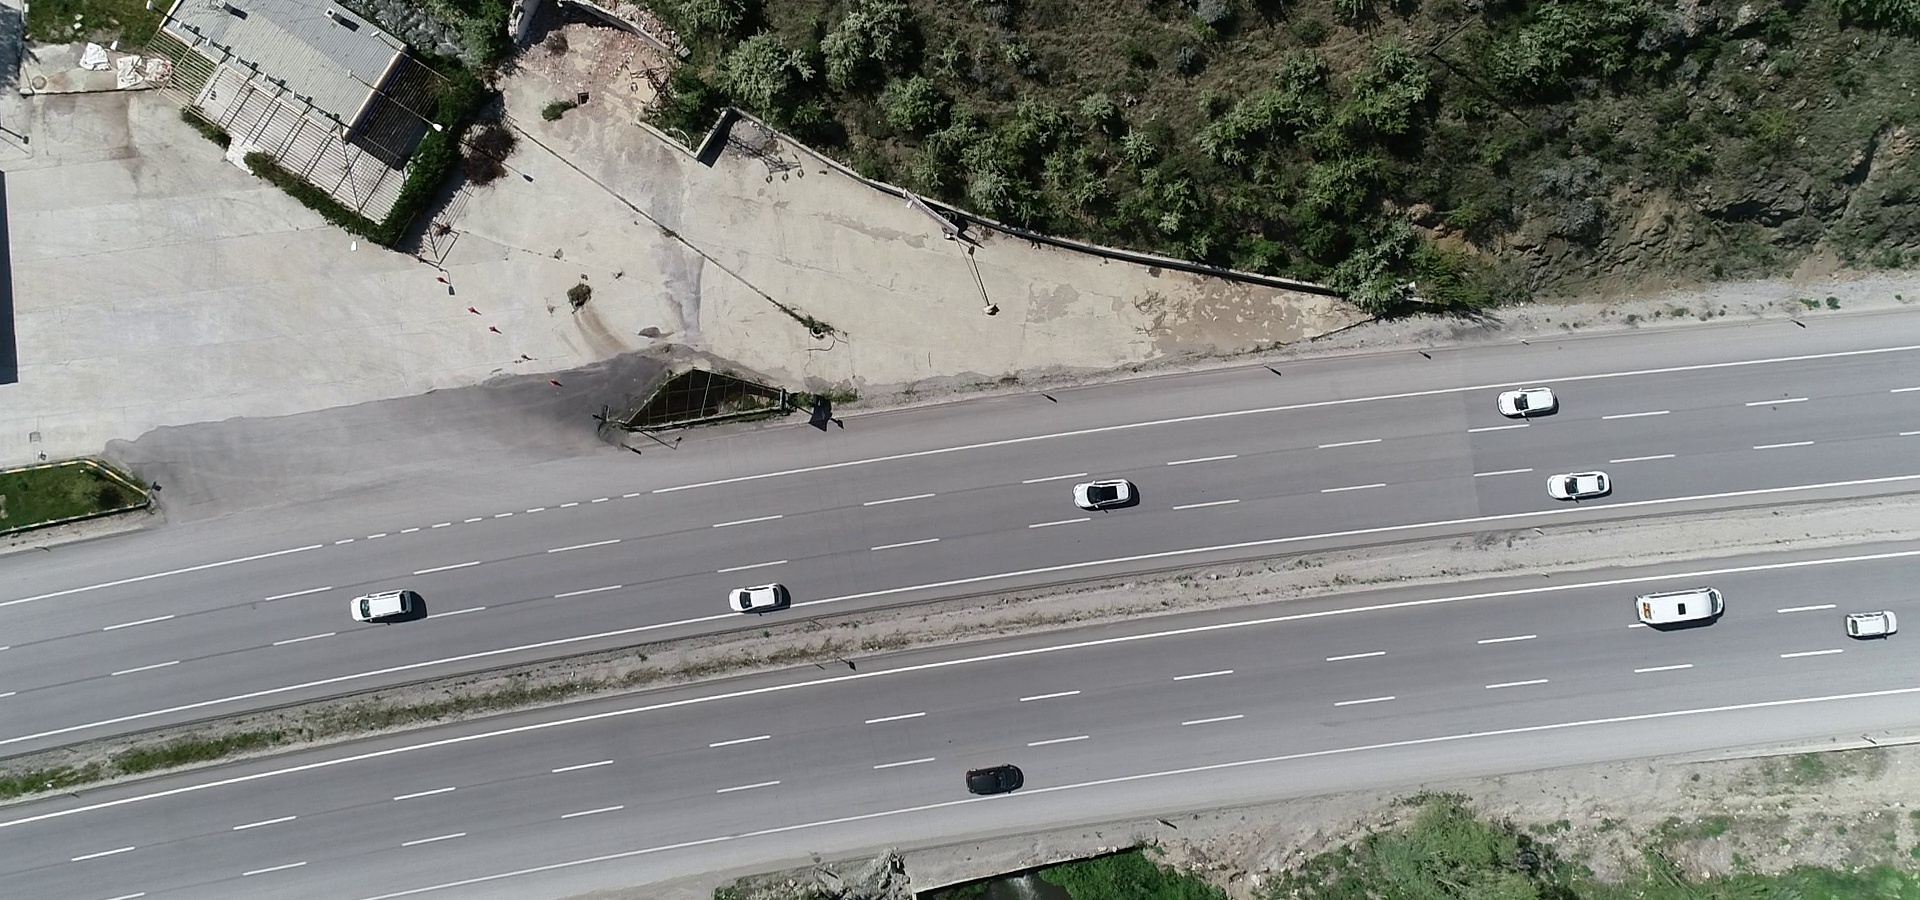arac: (1632, 580, 1739, 628), (1537, 465, 1625, 506), (348, 590, 426, 633), (958, 754, 1026, 801), (1071, 471, 1138, 516), (725, 578, 793, 620), (1494, 384, 1566, 422), (1848, 610, 1905, 642)
